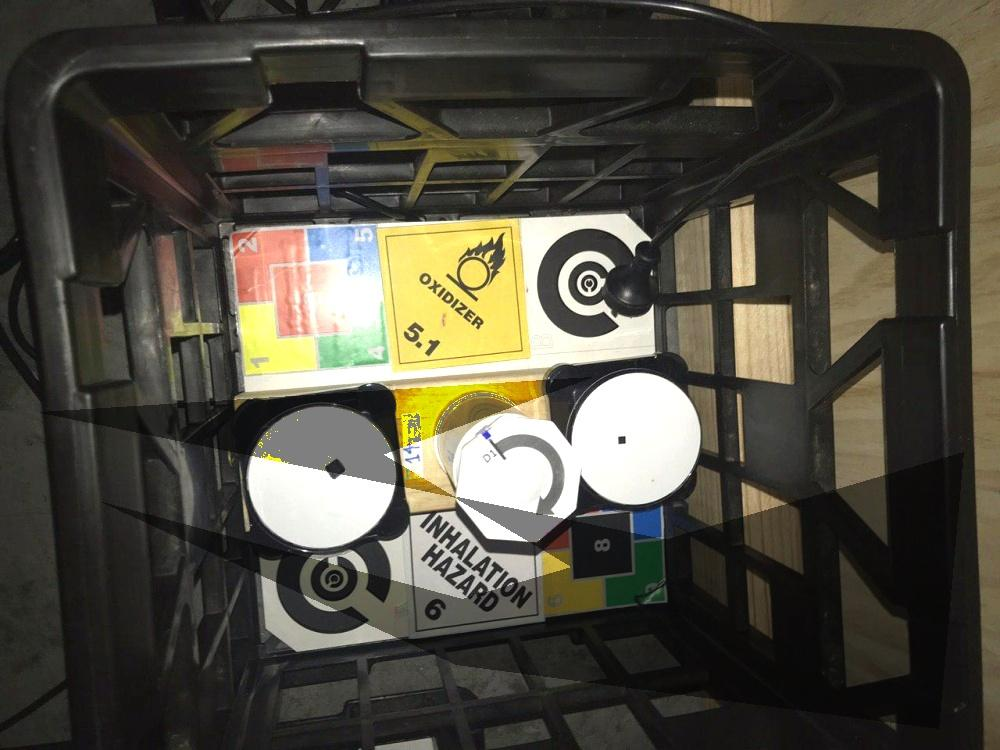oxidizer: (375, 220, 534, 373)
poison: (399, 511, 546, 643)
